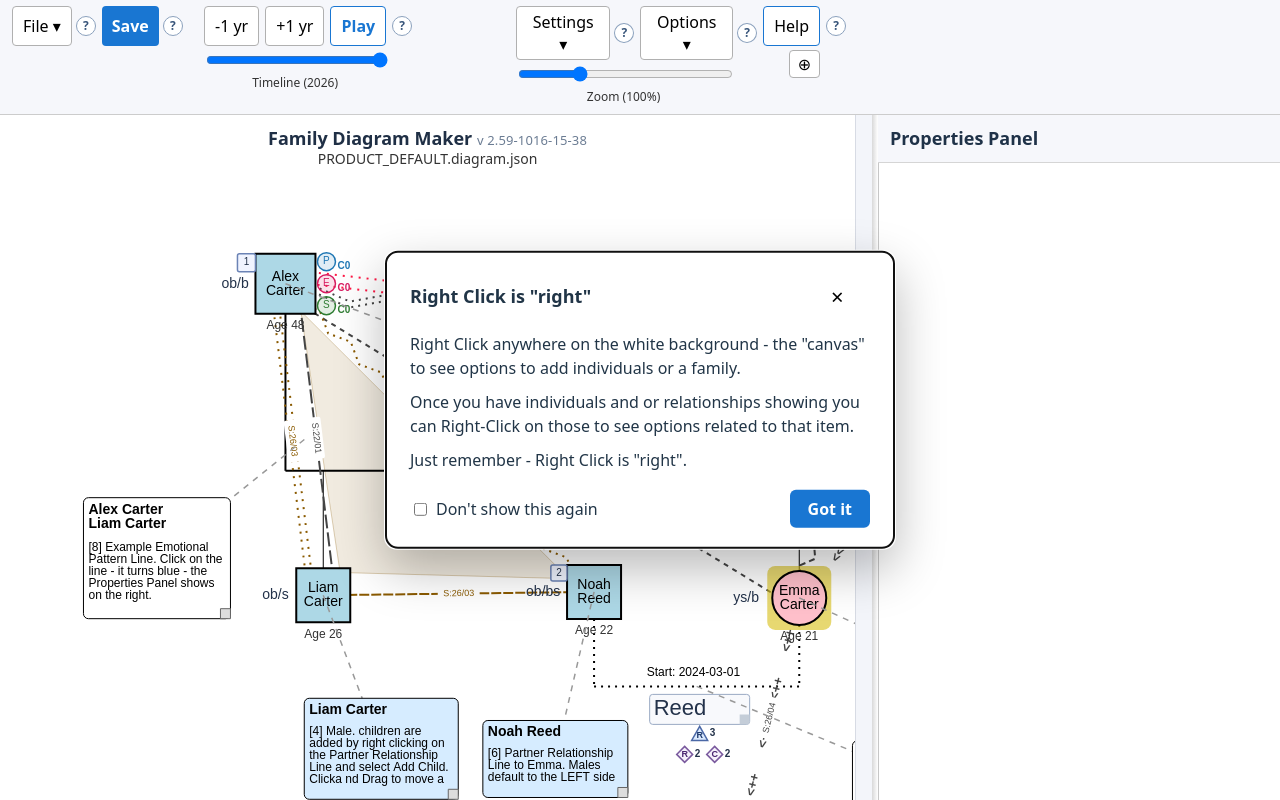
DiagramEditor › renders settings and options dropdown menus
The image size is (1280, 800).
Click the button "File ▾".
click(42, 26)  # box [12,6,72,46]
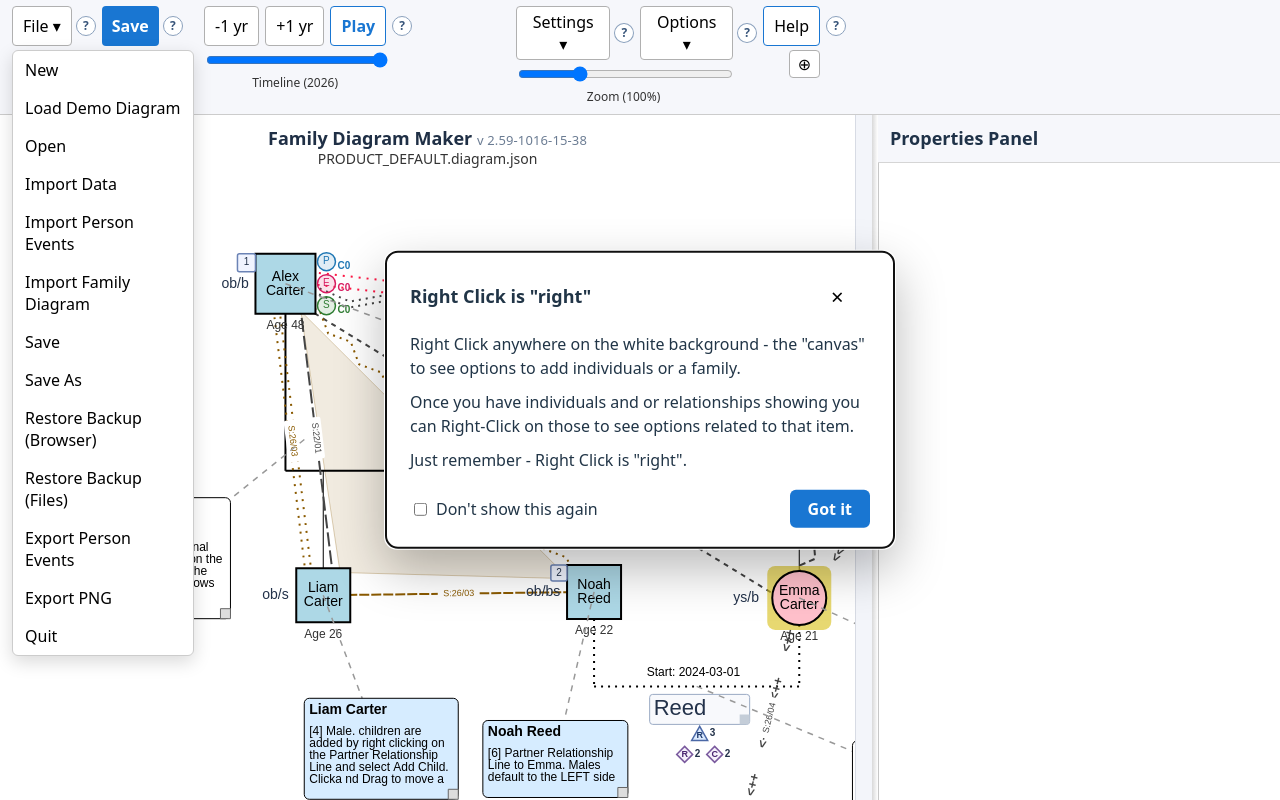
Now the button "Load Demo Diagram" is shown, box [13,89,193,127]
Now the button "Restore Backup (Browser)" is shown, box [13,399,193,459]
Click the button "File ▾".
click(42, 26)  # box [12,6,72,46]
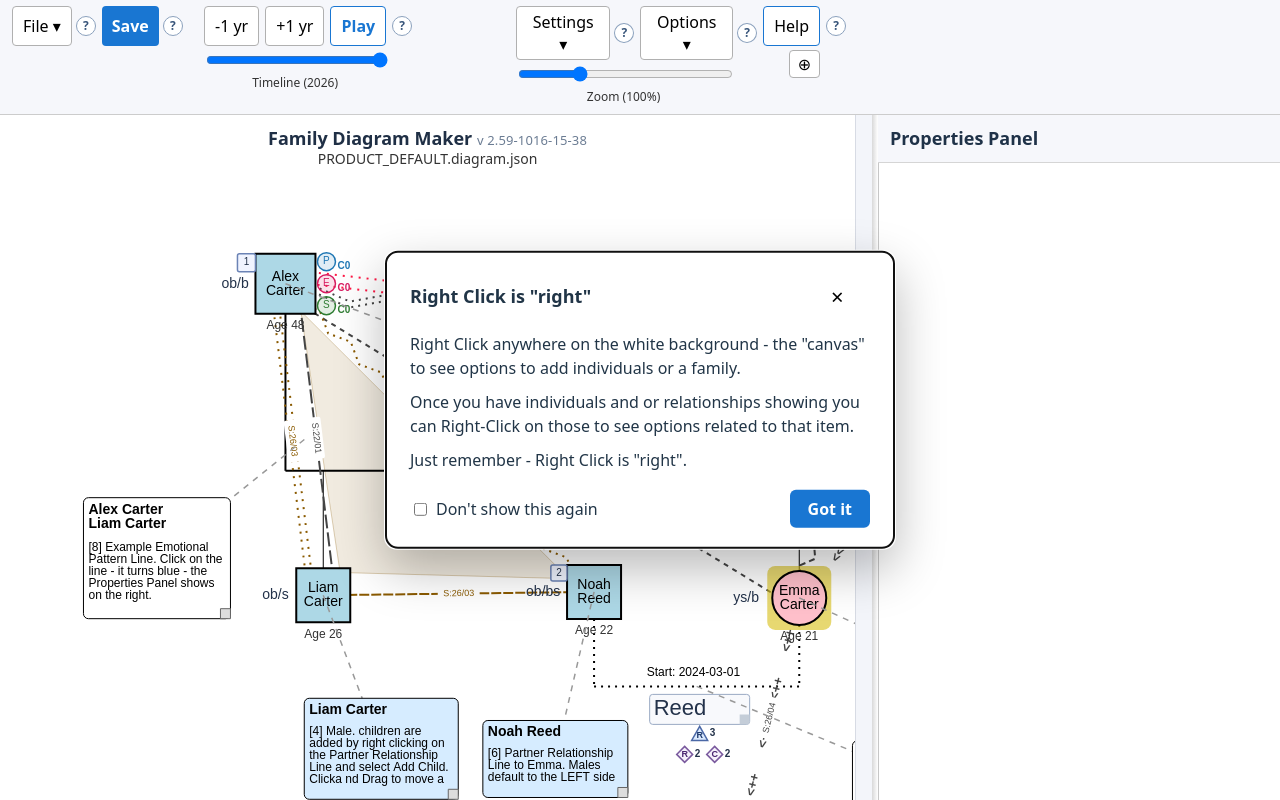
Click the button "Settings ▾".
click(563, 33)  # box [516,6,610,60]
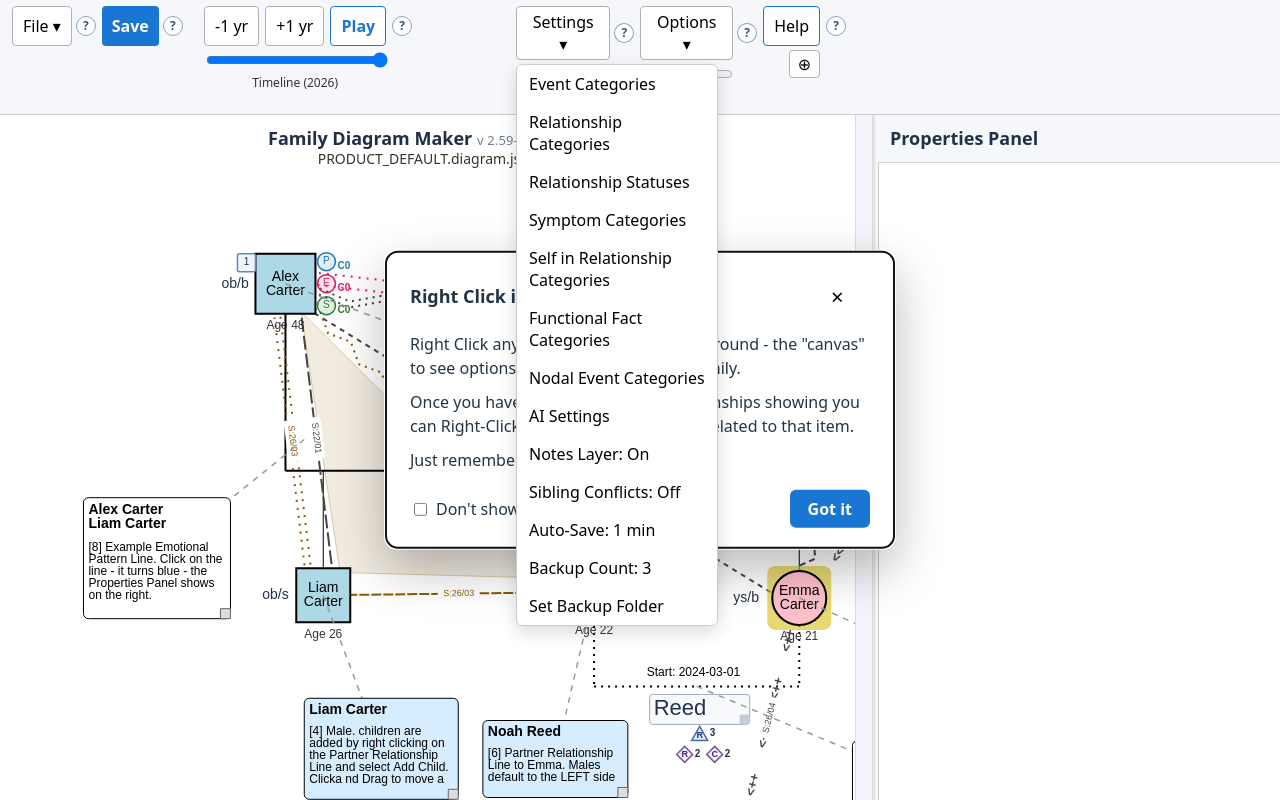
Now the button "Event Categories" is shown, box [517,65,717,103]
Now the button "Relationship Categories" is shown, box [517,103,717,163]
Now the button "Relationship Statuses" is shown, box [517,163,717,201]
Click the button "Options ▾".
click(687, 33)  # box [640,6,733,60]
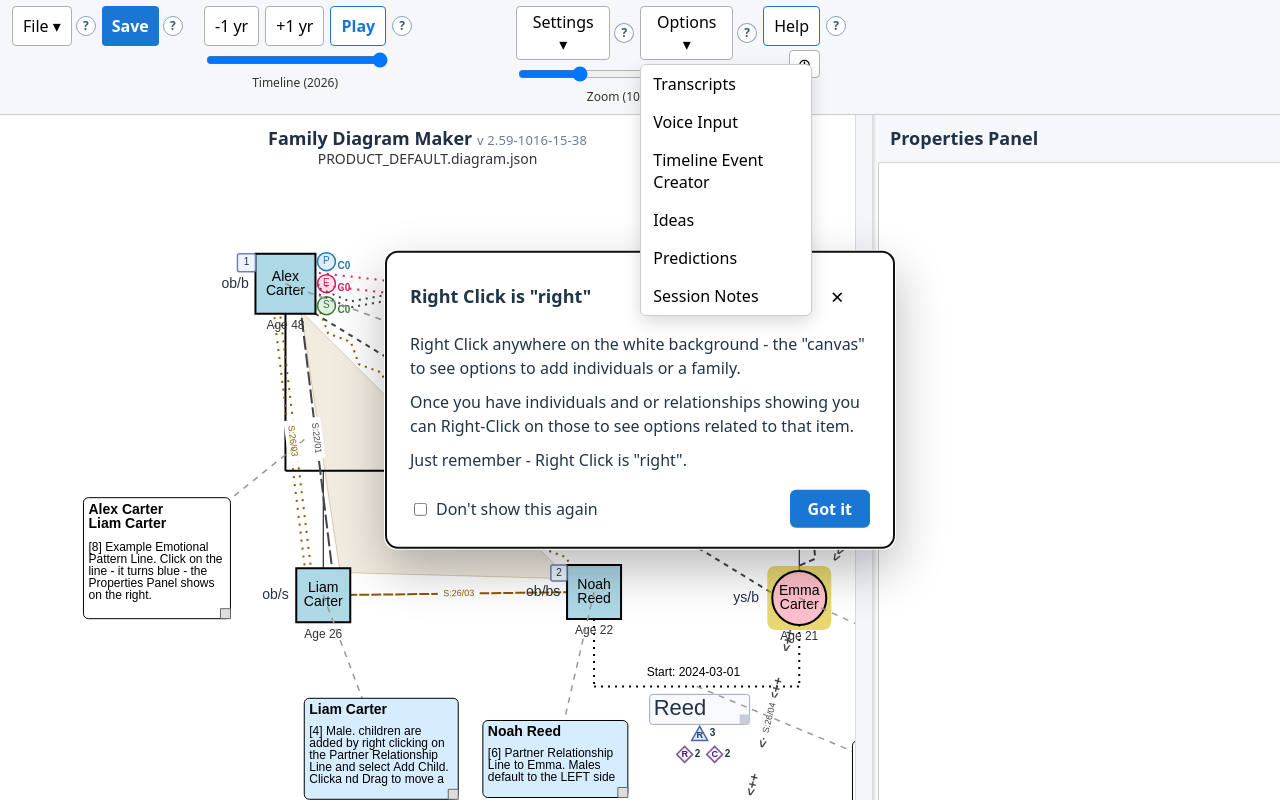
Now the button "Transcripts" is shown, box [641,65,811,103]
Now the button "Voice Input" is shown, box [641,103,811,141]
Now the button "Timeline Event Creator" is shown, box [641,141,811,201]
